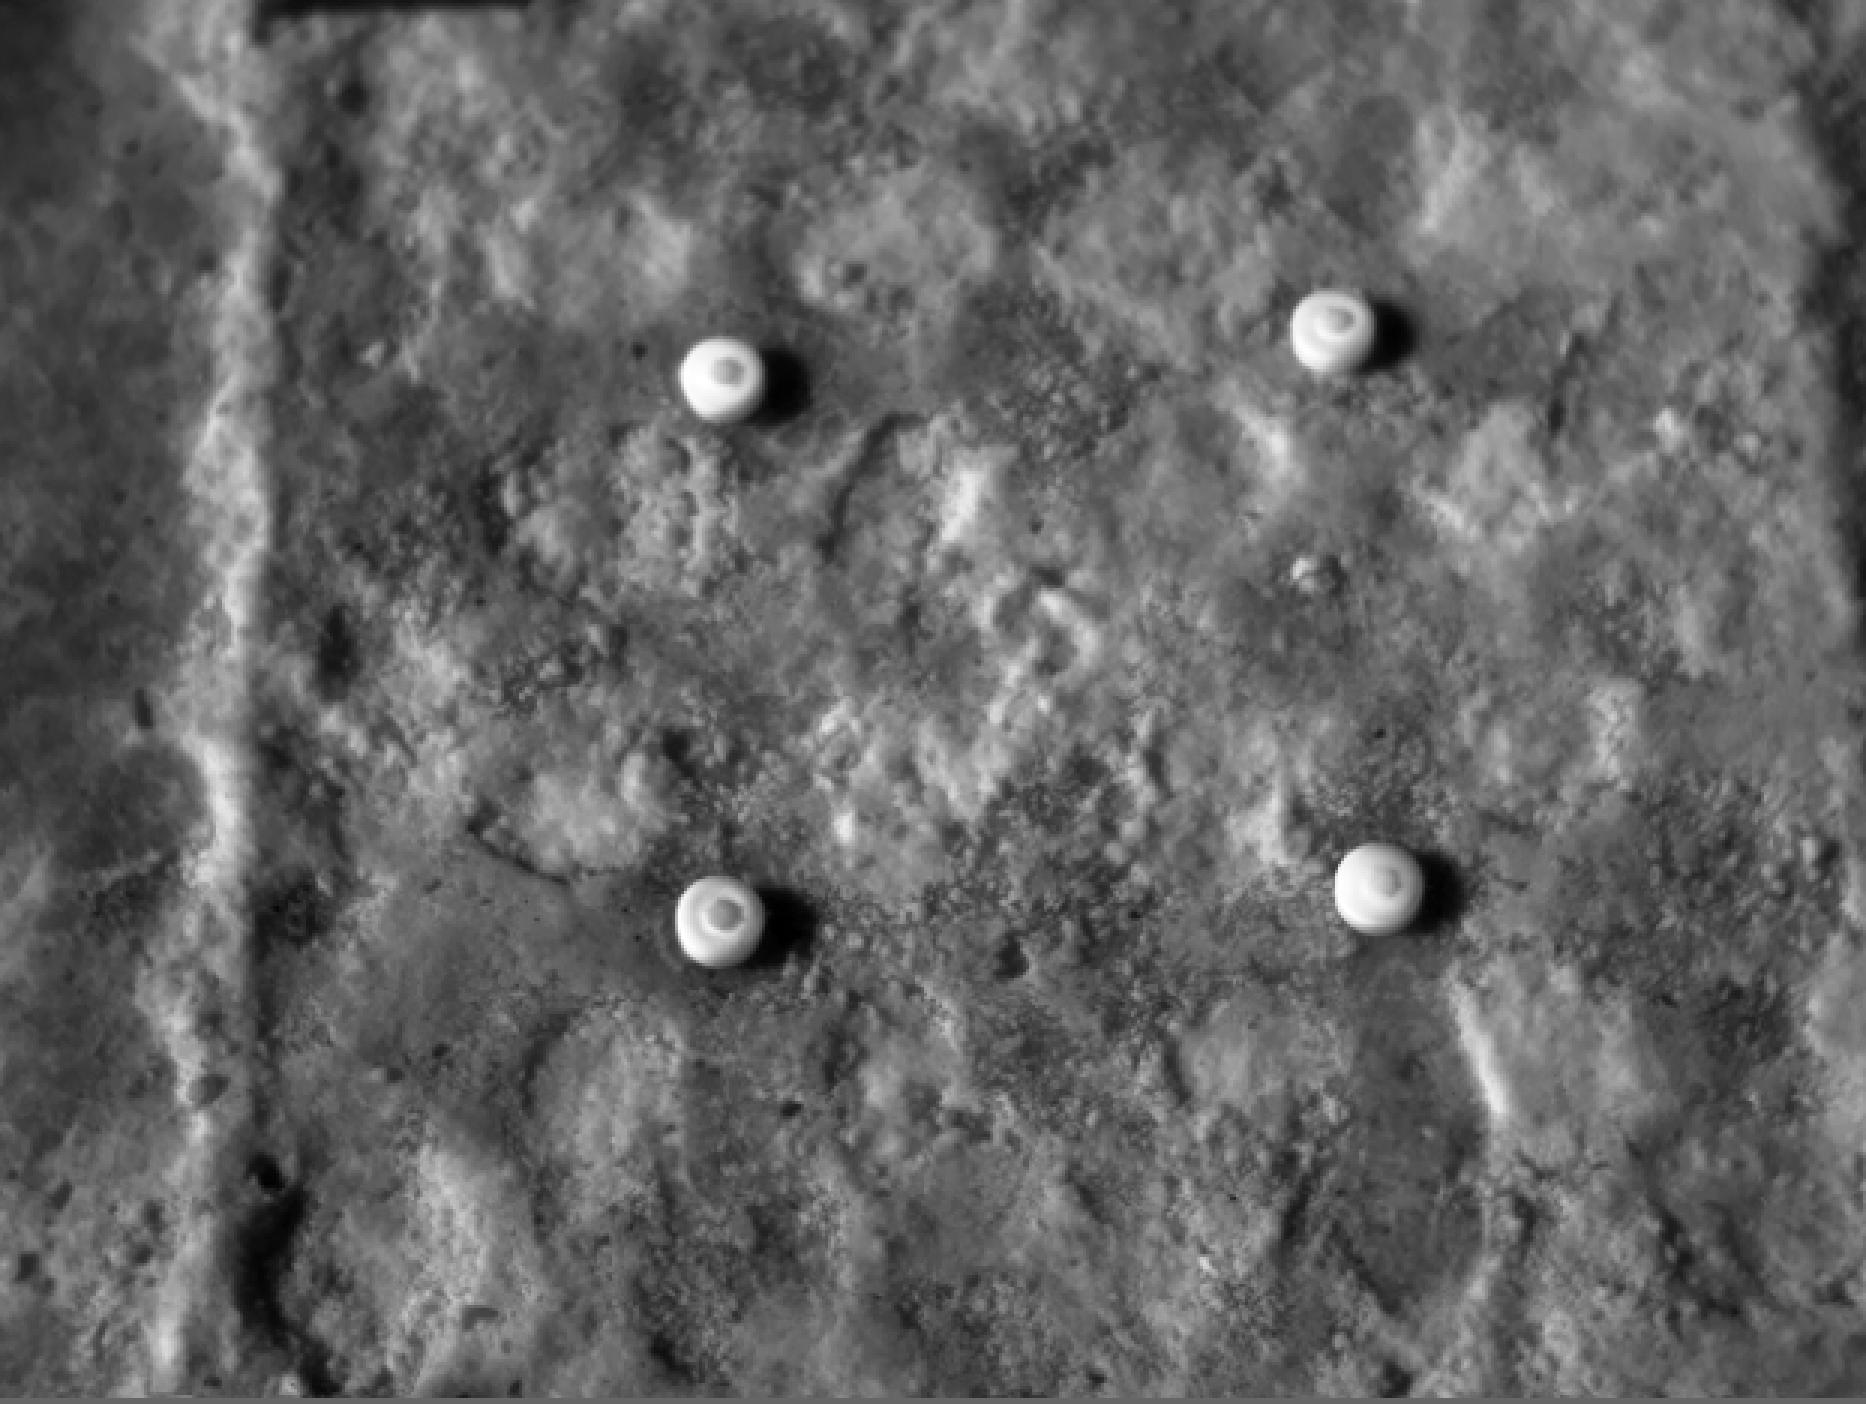mines-gjV8: (665, 872, 773, 973), (1282, 288, 1384, 372), (1332, 848, 1421, 941), (676, 342, 766, 416)
